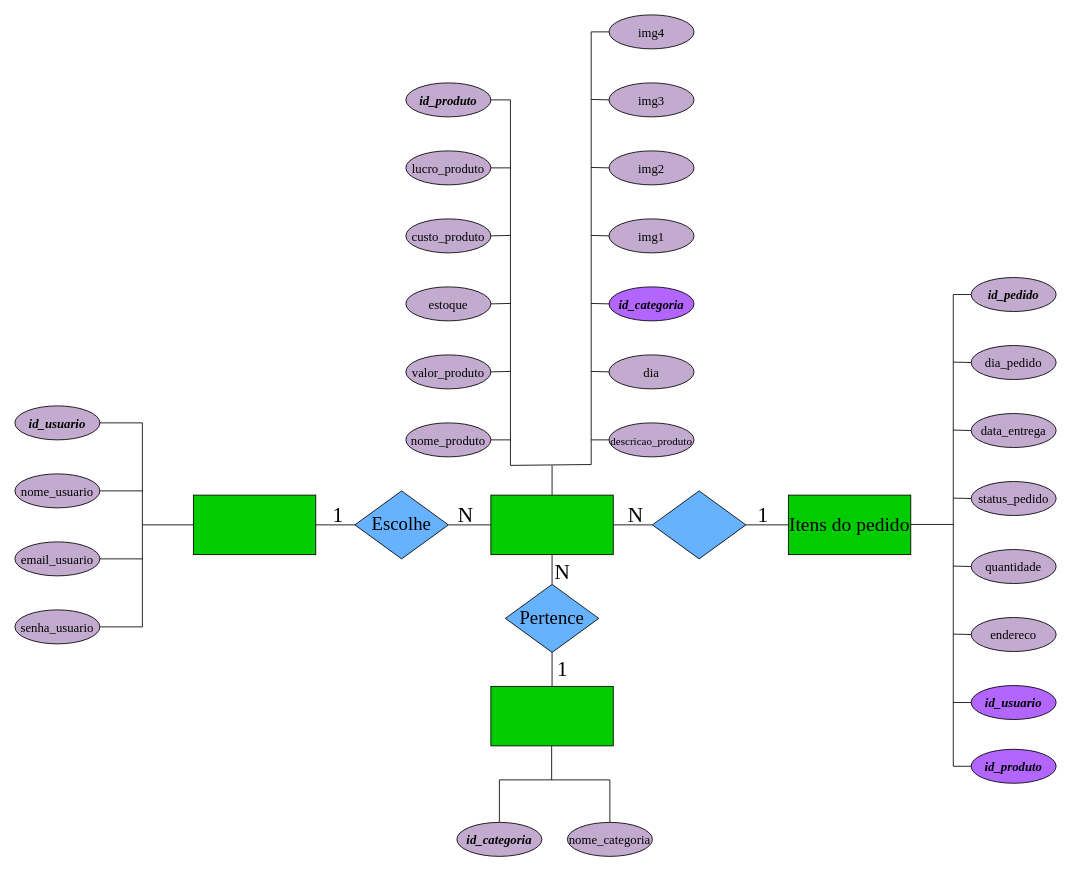
The diagram is 1071 pixels wide and 871 high, and some of its shapes have lost their labels. Here are the shapes that lost their labels. From the top down, the centre of each, then its label:
pixel 254 524: Usuário
pixel 551 524: Produto
pixel 699 524: Envia
pixel 551 716: Categoria
